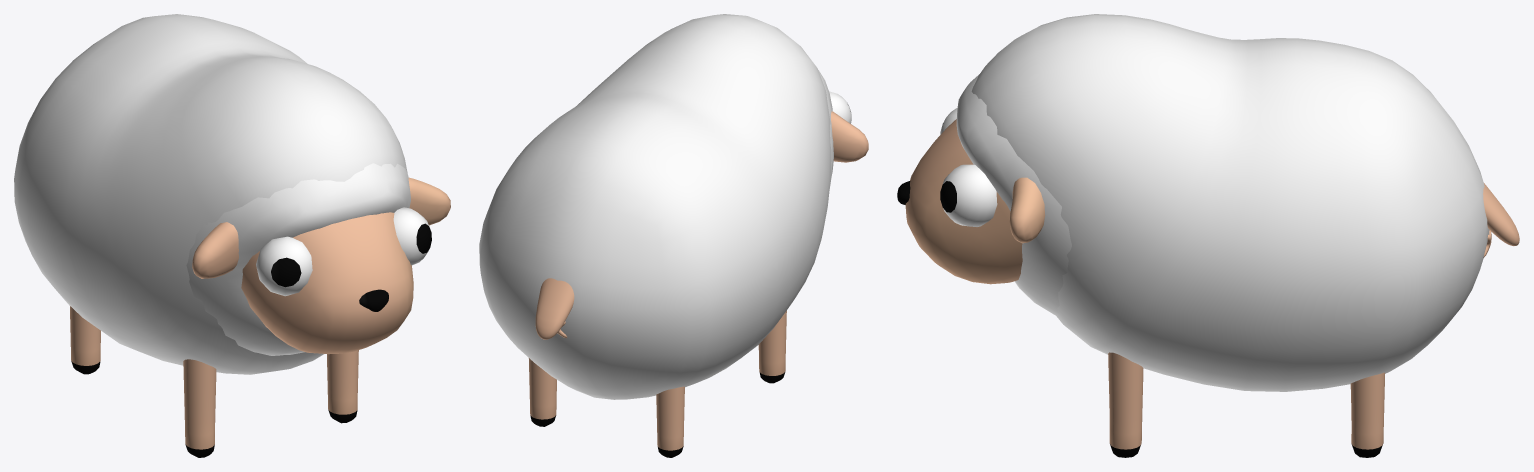
Rendered from Sheep.fbx.
The picture shows the model from 3 angles, left to right: view 1: azimuth 30°, elevation 25°; view 2: azimuth 150°, elevation 25°; view 3: azimuth 270°, elevation 25°; orthographic projection. The views are drawn at different scales.
Visible parts, largest first — view 1: Long_cuu_ngoai, sheepnude; view 2: Long_cuu_ngoai, sheepnude; view 3: Long_cuu_ngoai, sheepnude.
Part boxes in pixels (x1,y1,x2,y2): Long_cuu_ngoai: (14, 14, 407, 374); sheepnude: (70, 163, 450, 457); Long_cuu_ngoai: (479, 14, 831, 399); sheepnude: (528, 70, 868, 457); Long_cuu_ngoai: (971, 14, 1489, 391); sheepnude: (897, 74, 1519, 457).
Bounding box in the file's own units: 165 × 199 × 284.
